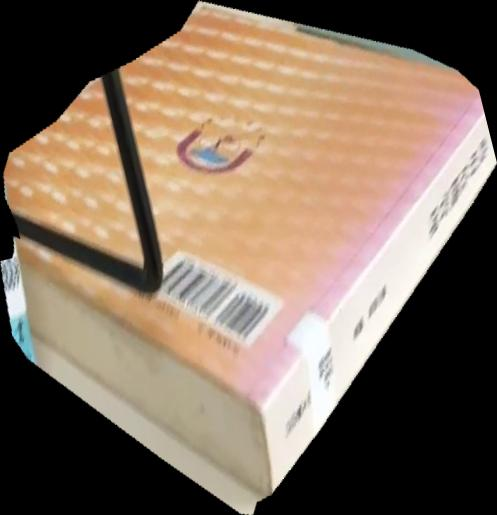flat: (1, 1, 497, 515)
